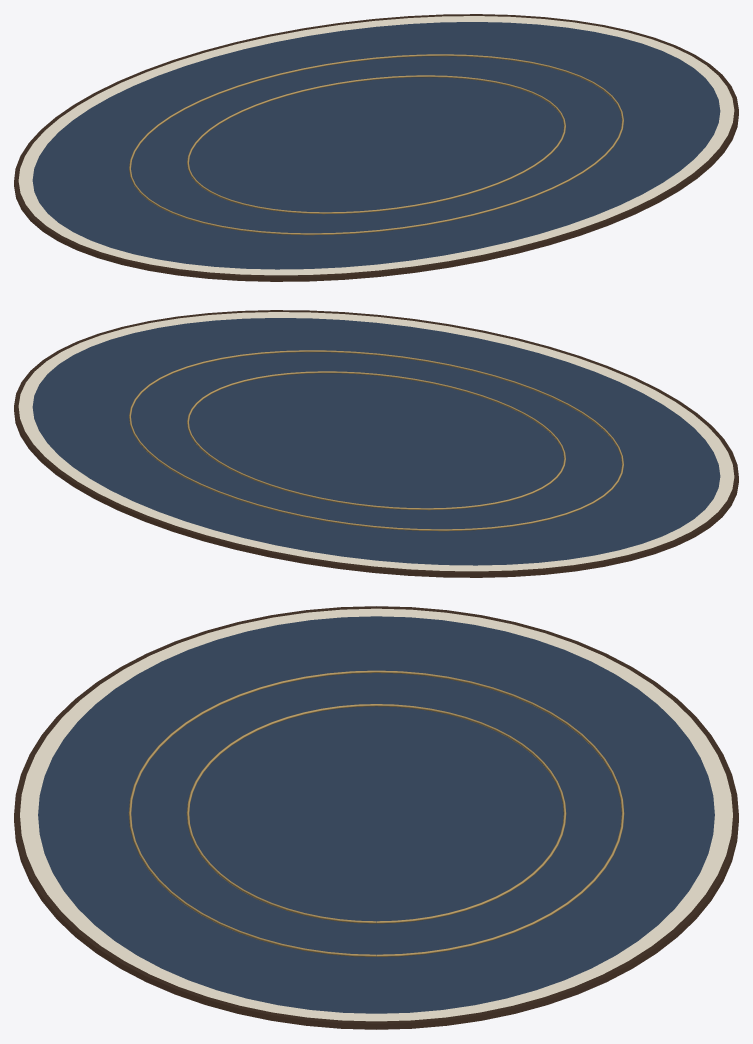
Rendered from observatory-oval-rug.glb.
3 renders of one model, top to bottom at view 1: azimuth 30°, elevation 25°; view 2: azimuth 150°, elevation 25°; view 3: azimuth 270°, elevation 25°, orthographic. The views are drawn at different scales.
Visible parts, largest first — view 1: library-oval-rug.009, Observatory curve.005, Observatory curve.004; view 2: library-oval-rug.009, Observatory curve.005, Observatory curve.004; view 3: library-oval-rug.009, Observatory curve.005, Observatory curve.004.
Part boxes in pixels (<box>): library-oval-rug.009: <box>14,14,738,281</box>; Observatory curve.005: <box>129,54,623,235</box>; Observatory curve.004: <box>187,75,565,214</box>; library-oval-rug.009: <box>14,310,738,577</box>; Observatory curve.005: <box>129,350,623,531</box>; Observatory curve.004: <box>187,371,565,510</box>; library-oval-rug.009: <box>14,606,738,1029</box>; Observatory curve.005: <box>128,670,624,956</box>; Observatory curve.004: <box>186,704,566,923</box>.
Size of the model in its own units: 3 by 0.0277 by 2.2.
